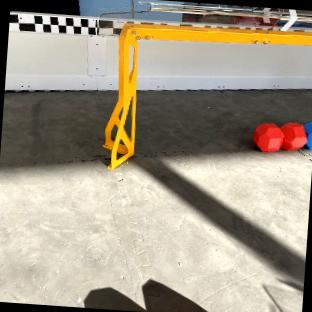Goal: (100, 0, 312, 168)
V5_BLUE: (303, 121, 312, 149)
V5_RED: (253, 121, 306, 152)
